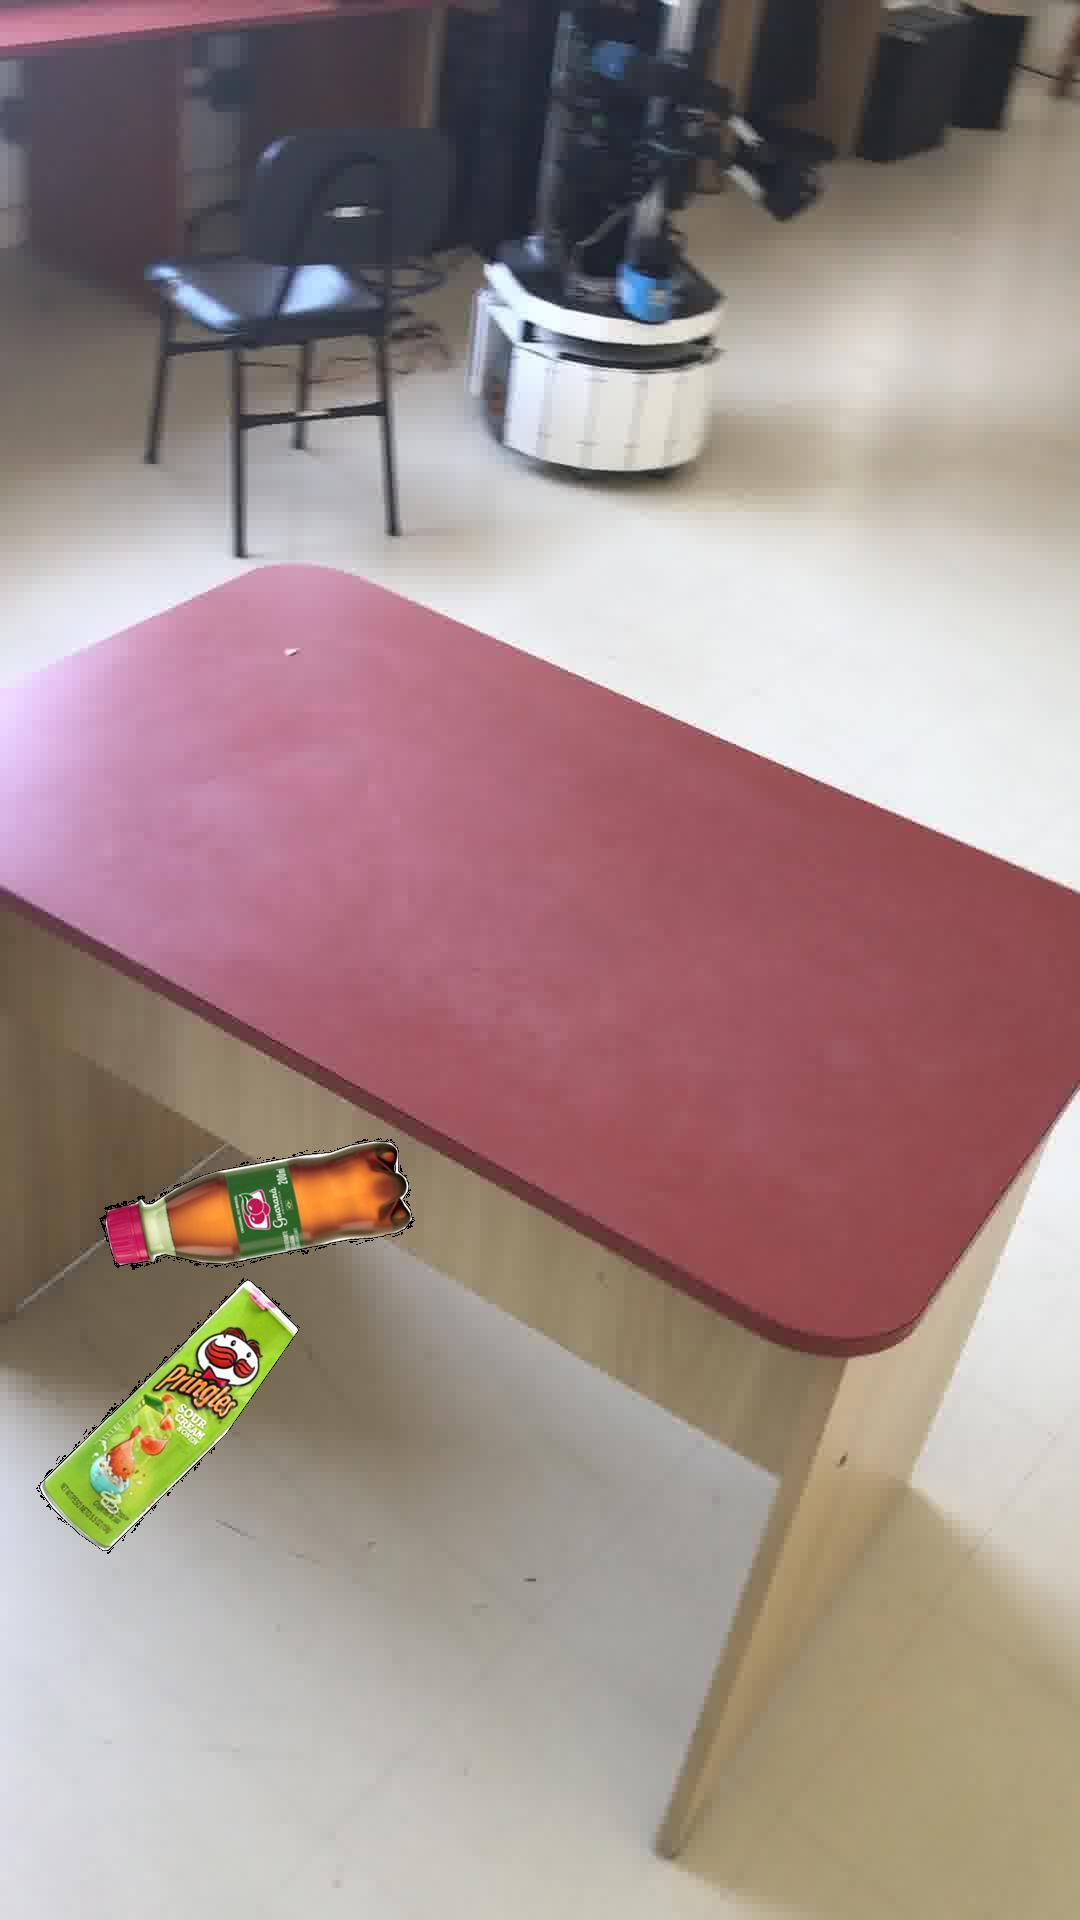guarana: (98, 1138, 413, 1269)
pringles: (37, 1278, 297, 1549)
